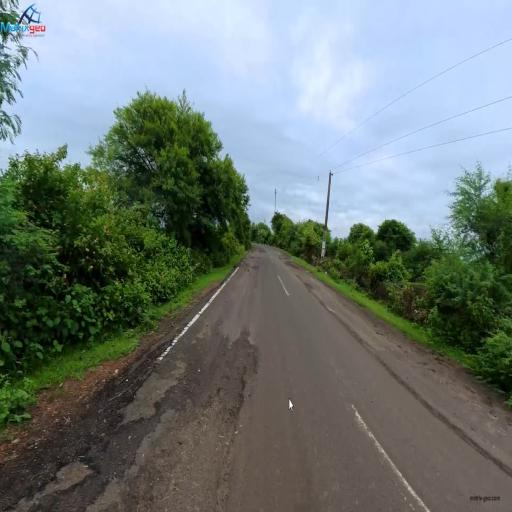edge_damage: (40, 372, 143, 500)
ravelling: (182, 348, 255, 499)
